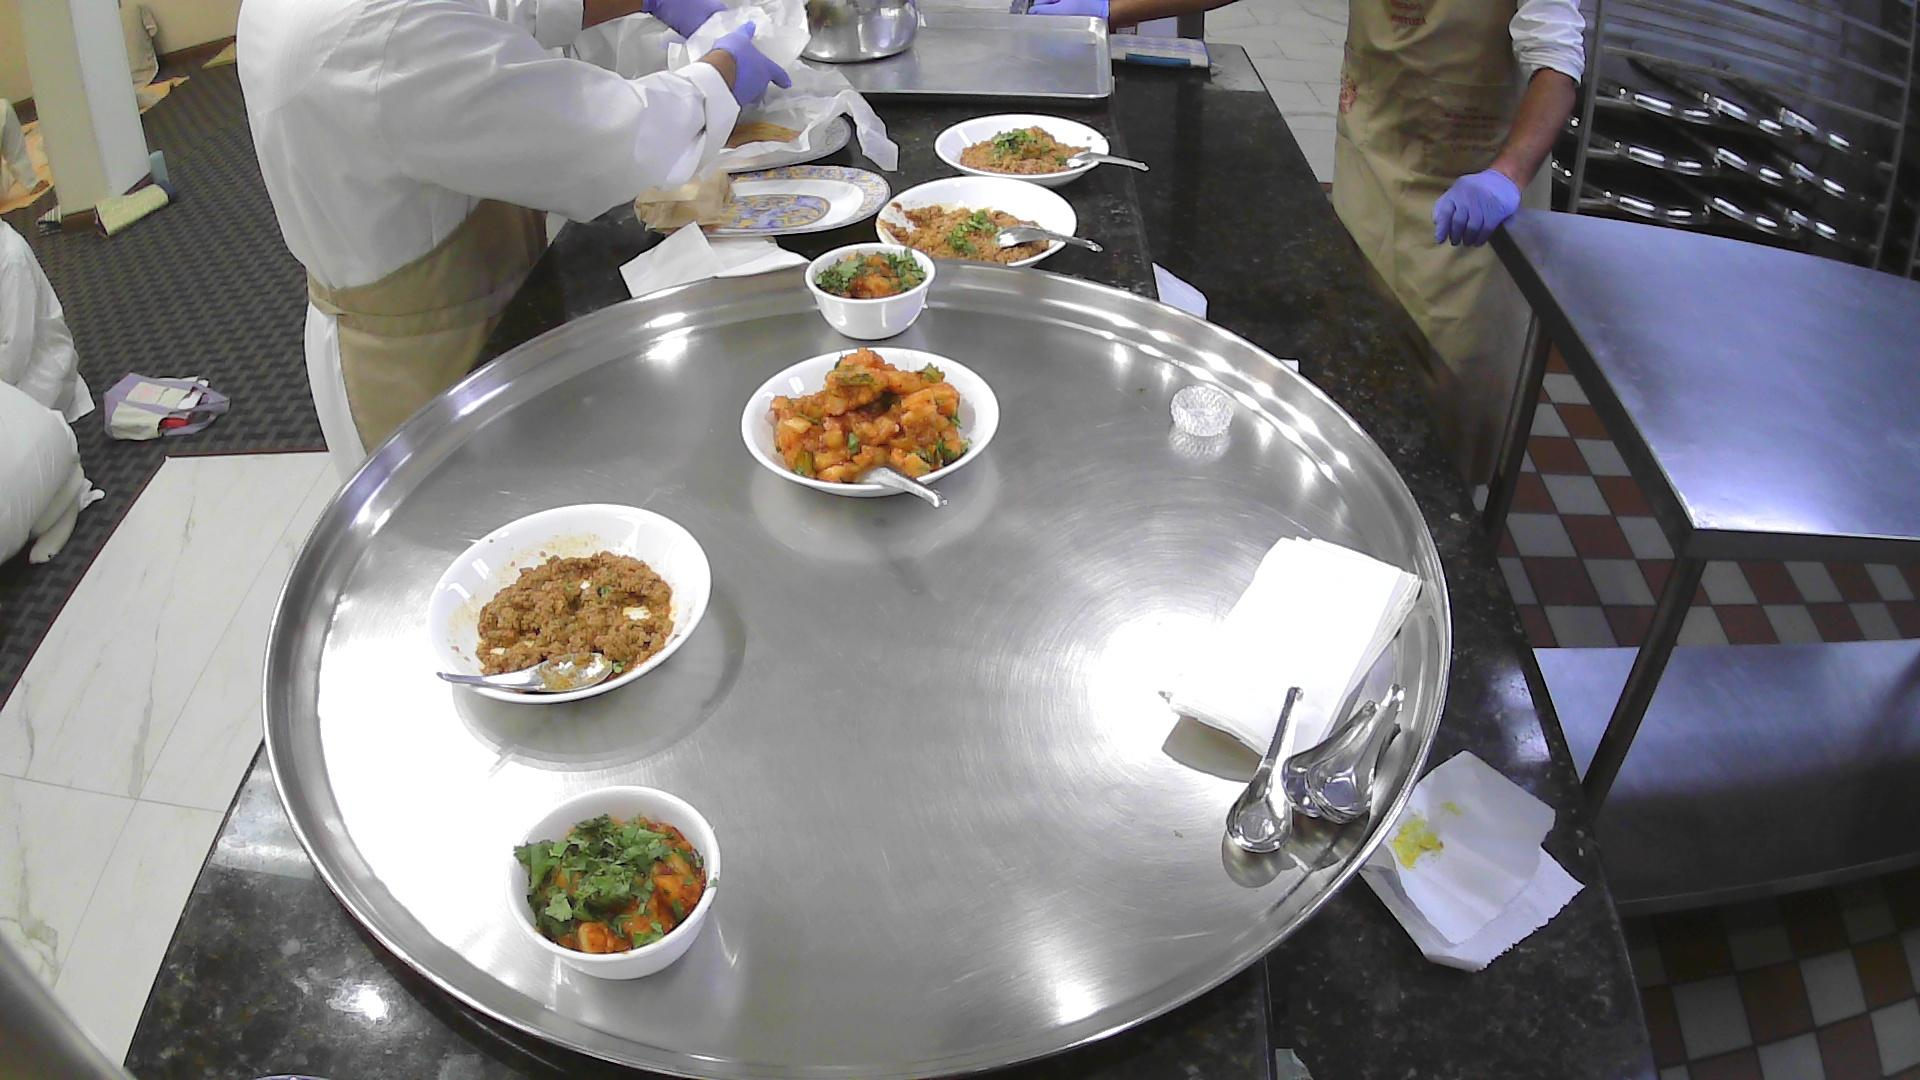thaal: (260, 254, 1456, 1080)
